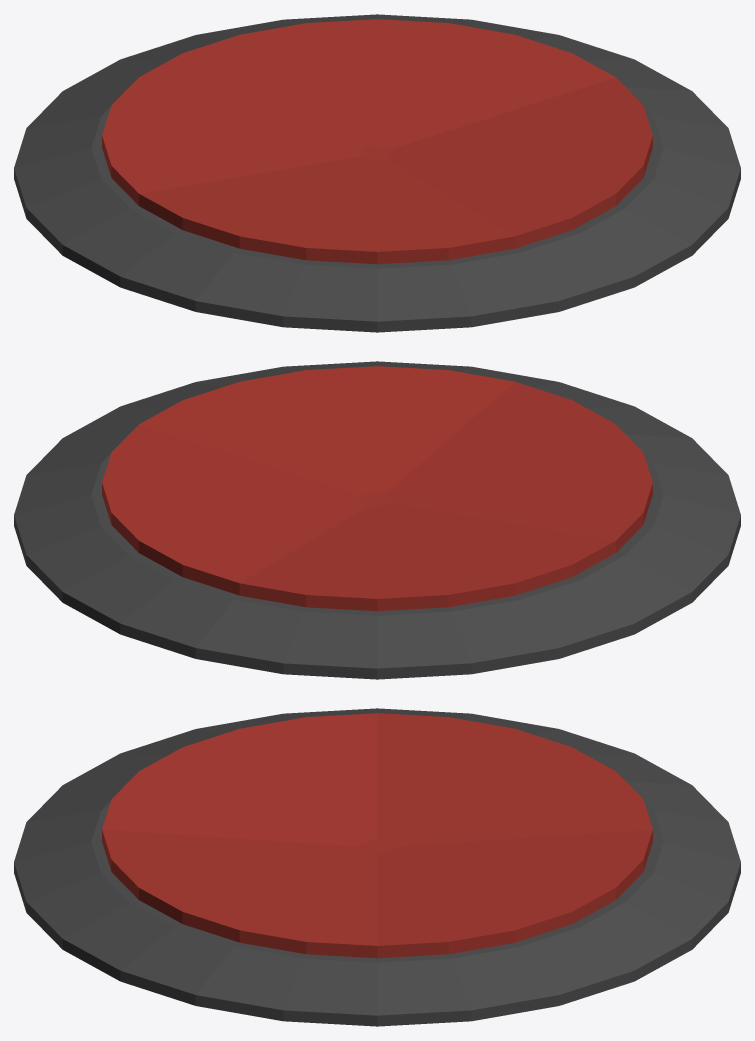
Rendered from DominoButton.fbx.
The picture shows the model from 3 angles, top to bottom: view 1: azimuth 30°, elevation 25°; view 2: azimuth 150°, elevation 25°; view 3: azimuth 270°, elevation 25°; orthographic projection.
Parts seen in each view (by area): view 1: Cylinder.001, Cylinder; view 2: Cylinder.001, Cylinder; view 3: Cylinder.001, Cylinder.
Boxes of the visible parts, x1=… form: Cylinder.001: x1=102, y1=19, x2=652, y2=264; Cylinder: x1=14, y1=14, x2=740, y2=332; Cylinder.001: x1=102, y1=366, x2=652, y2=611; Cylinder: x1=14, y1=361, x2=740, y2=679; Cylinder.001: x1=102, y1=713, x2=652, y2=958; Cylinder: x1=14, y1=708, x2=740, y2=1026.
Bounding box in the file's own units: 386 × 25.47 × 386.
